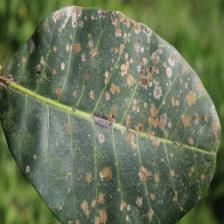red rust: (0, 5, 221, 223)
